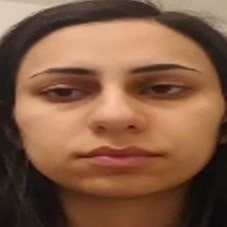drowsy: (25, 54, 207, 169)
